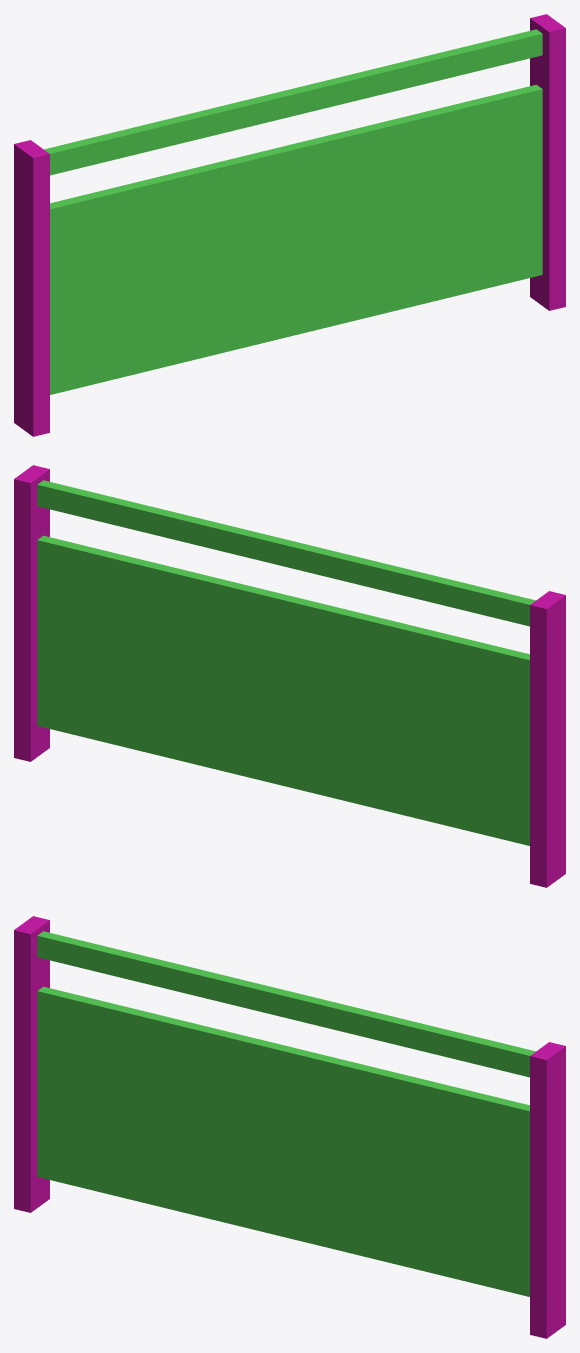
File: barrierRoof.fbx
The picture shows the model from 3 angles, top to bottom: view 1: azimuth 30°, elevation 25°; view 2: azimuth 150°, elevation 25°; view 3: azimuth 330°, elevation 25°; orthographic projection.
Visible parts, largest first — view 1: barrier.003; view 2: barrier.003; view 3: barrier.003.
Boxes of the visible parts, left/top/right/bottom form: barrier.003: left=14, top=14, right=565, bottom=436; barrier.003: left=14, top=465, right=565, bottom=887; barrier.003: left=14, top=916, right=565, bottom=1338.
Size of the model in its own units: 256 by 128 by 16.
